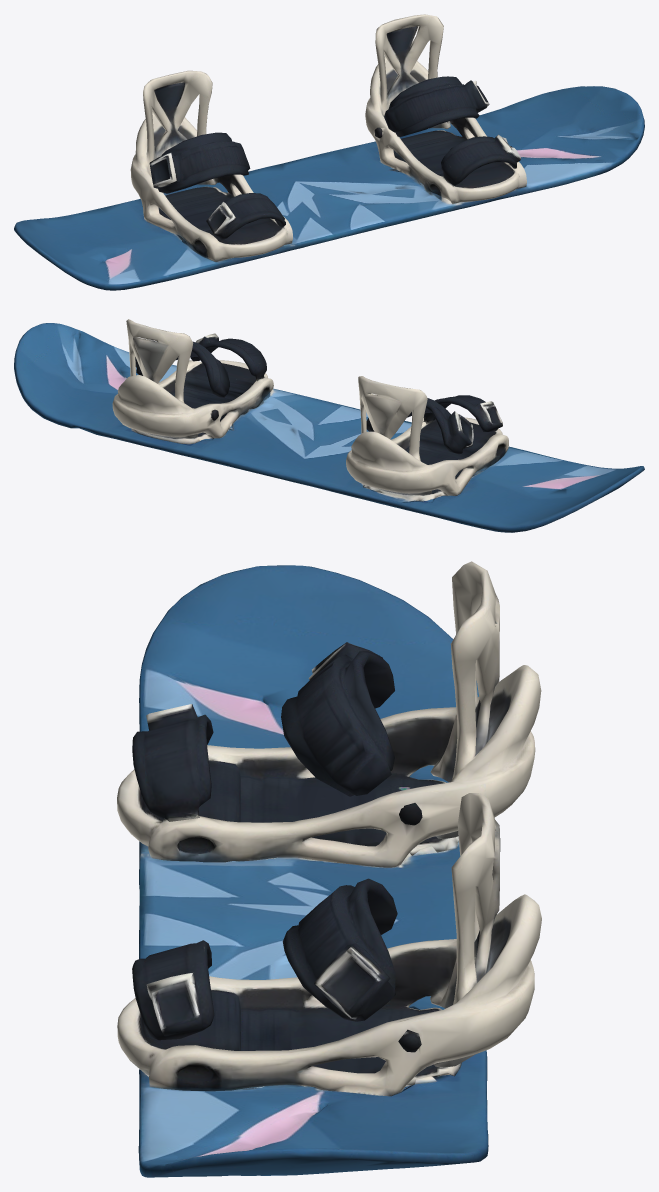
Rendered from board-assembly-seg-tex1k-v01-mobile-v01.glb.
3 views of the same model, one above another, from view 1: azimuth 30°, elevation 25°; view 2: azimuth 150°, elevation 25°; view 3: azimuth 270°, elevation 25° (orthographic). The views are drawn at different scales.
Visible parts, largest first — view 1: tripo_part_0, tripo_part_1, tripo_part_2, tripo_part_3, tripo_part_4, tripo_part_6, tripo_part_7; view 2: tripo_part_0, tripo_part_1, tripo_part_2, tripo_part_4, tripo_part_6, tripo_part_7, tripo_part_3; view 3: tripo_part_0, tripo_part_2, tripo_part_1, tripo_part_4, tripo_part_3, tripo_part_7, tripo_part_6.
Boxes of the visible parts, x1=… form: tripo_part_0: x1=14, y1=86, x2=644, y2=290; tripo_part_1: x1=130, y1=70, x2=292, y2=261; tripo_part_2: x1=365, y1=14, x2=526, y2=204; tripo_part_3: x1=384, y1=76, x2=489, y2=136; tripo_part_4: x1=149, y1=132, x2=250, y2=193; tripo_part_6: x1=441, y1=134, x2=520, y2=186; tripo_part_7: x1=206, y1=193, x2=285, y2=239; tripo_part_0: x1=14, y1=323, x2=644, y2=532; tripo_part_1: x1=346, y1=376, x2=508, y2=502; tripo_part_2: x1=112, y1=319, x2=273, y2=444; tripo_part_4: x1=366, y1=398, x2=473, y2=454; tripo_part_6: x1=190, y1=333, x2=266, y2=381; tripo_part_7: x1=423, y1=395, x2=502, y2=431; tripo_part_3: x1=135, y1=341, x2=229, y2=397; tripo_part_0: x1=138, y1=565, x2=488, y2=1177; tripo_part_2: x1=117, y1=793, x2=541, y2=1096; tripo_part_1: x1=117, y1=561, x2=541, y2=867; tripo_part_4: x1=281, y1=642, x2=394, y2=796; tripo_part_3: x1=282, y1=878, x2=397, y2=1021; tripo_part_7: x1=132, y1=704, x2=213, y2=821; tripo_part_6: x1=132, y1=940, x2=214, y2=1040.
Size of the model in its own units: 1 by 0.1967 by 0.3059.
1 material, 1 textured.
